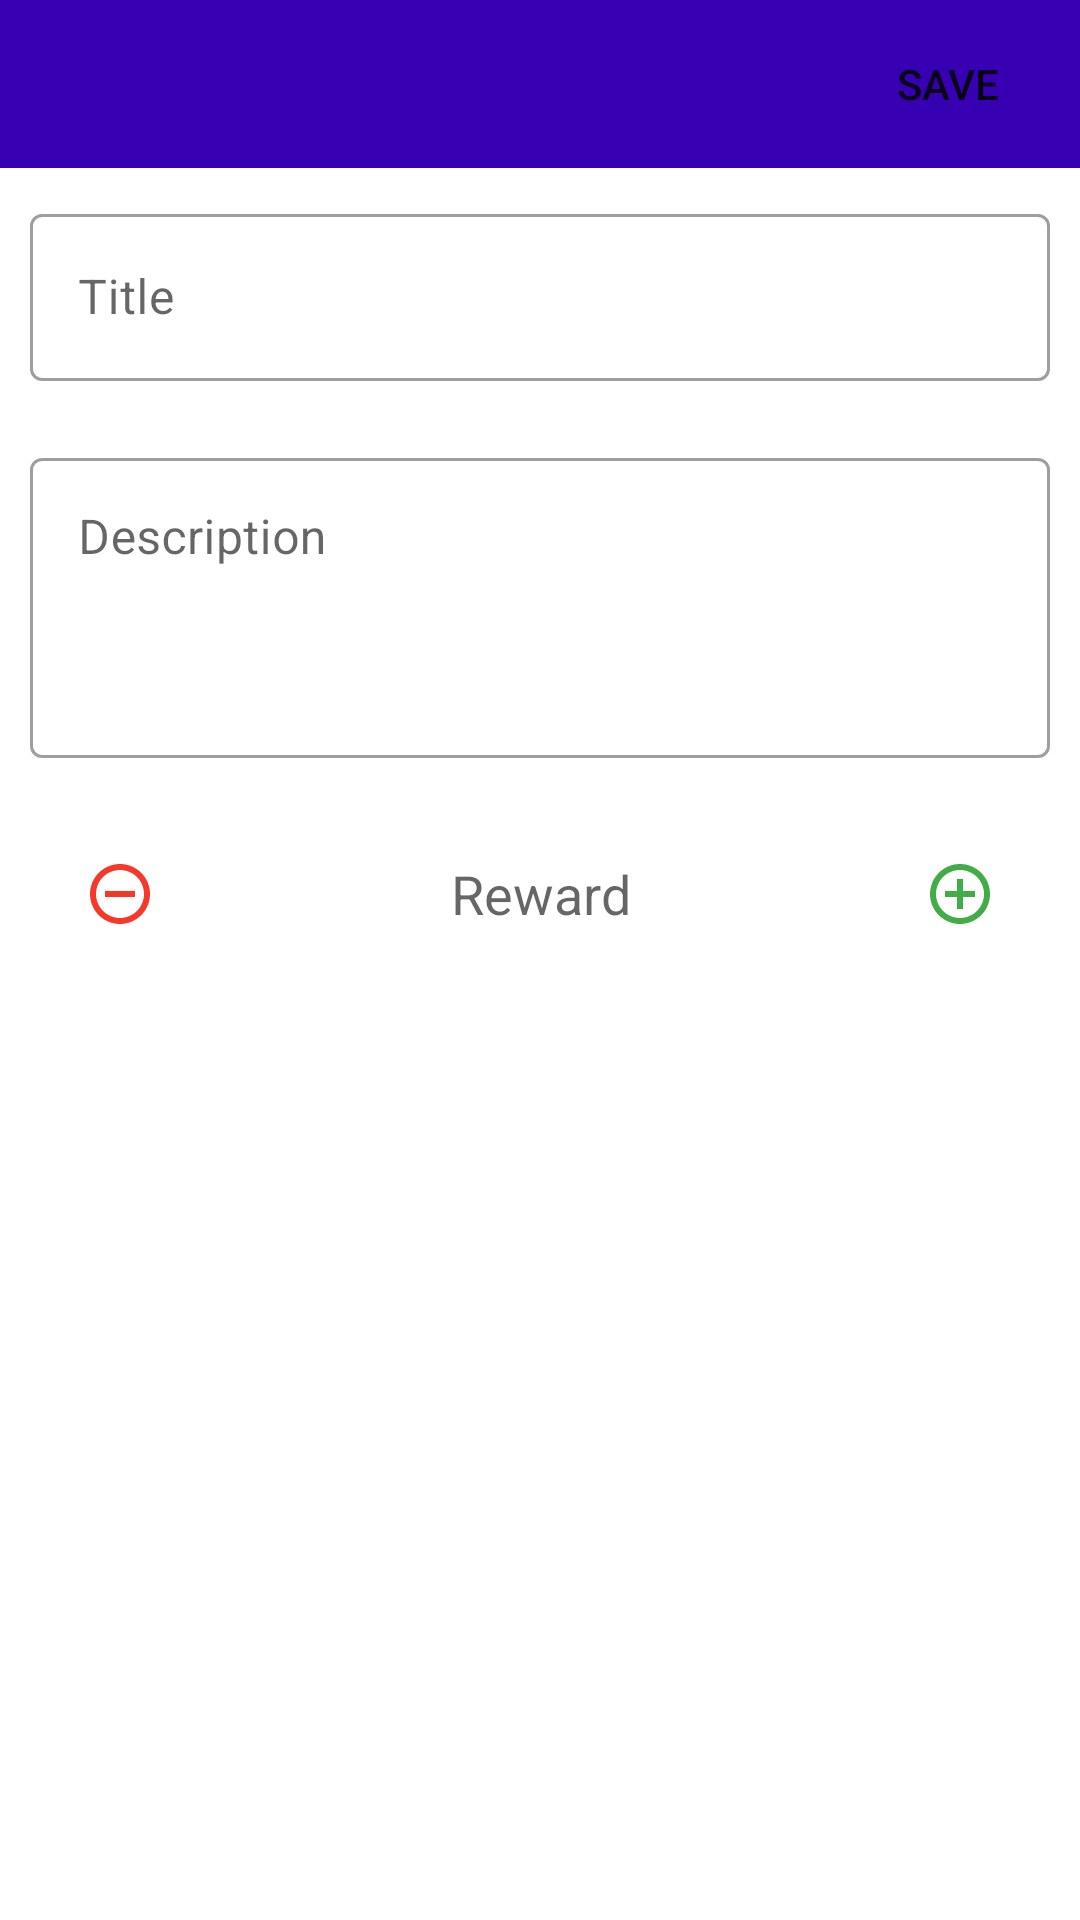

Locate icon controls on the screen. Image size 1080 × 1920, boxes as (x1, y1, x2, y2).
minus: (90, 864, 150, 924)
plus: (930, 864, 990, 924)
